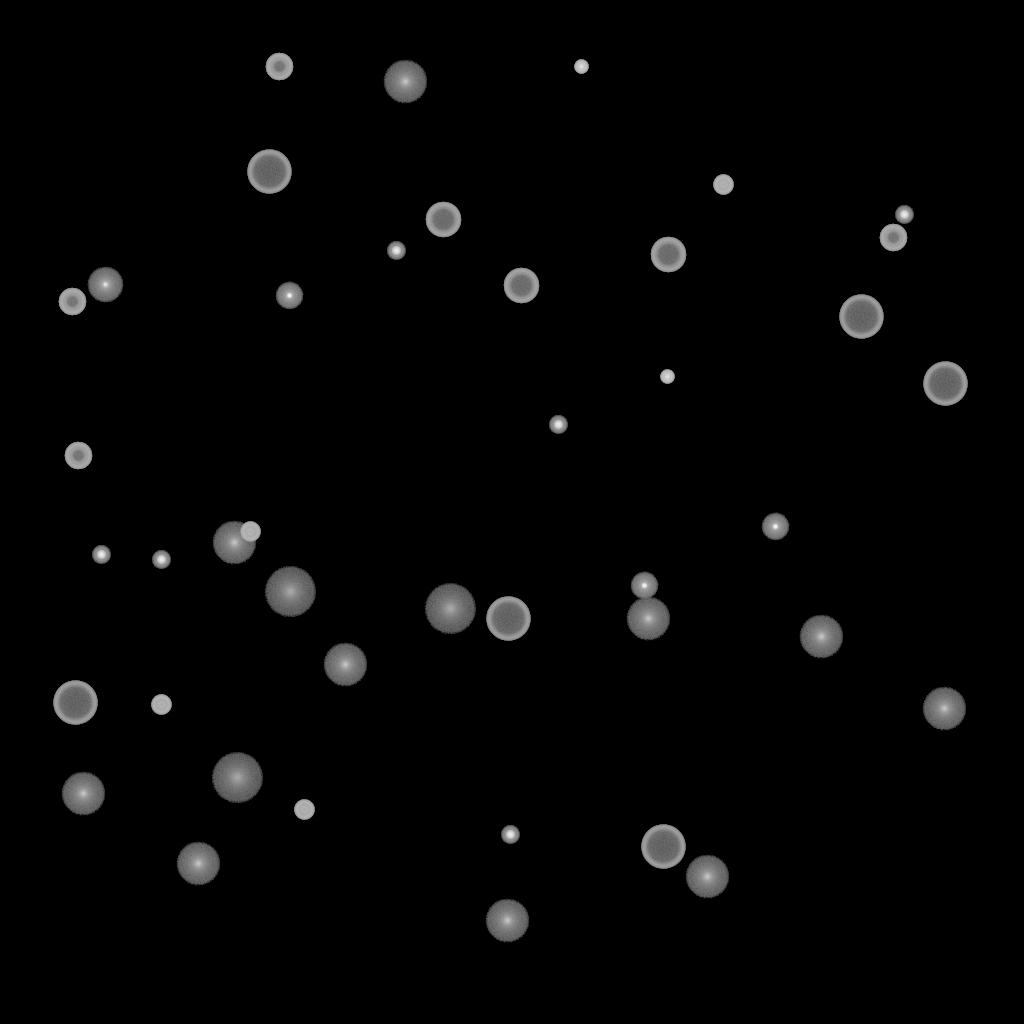depth:-10: (275, 282, 303, 310), (630, 572, 658, 600), (761, 513, 789, 541)
depth:-20: (895, 206, 913, 224), (152, 551, 170, 569), (501, 826, 519, 844), (92, 546, 110, 564), (549, 416, 567, 434), (387, 242, 405, 260)
depth:-30: (660, 370, 674, 384), (574, 60, 588, 74)
depth:-40: (294, 800, 314, 820), (240, 522, 260, 542), (151, 695, 171, 715), (713, 175, 733, 195)
depth:-50: (879, 224, 907, 252), (265, 53, 293, 81), (64, 442, 92, 470), (58, 288, 86, 316)
depth:-60: (425, 202, 461, 238), (503, 268, 539, 304), (650, 237, 686, 273)
depth:-70: (53, 681, 97, 725), (247, 150, 291, 194), (641, 825, 685, 869), (923, 362, 967, 406), (486, 597, 530, 641), (839, 295, 883, 339)
depth:0: (87, 267, 123, 303)
depth:10: (922, 687, 966, 731), (176, 842, 220, 886), (61, 772, 105, 816), (485, 899, 529, 943), (383, 60, 427, 104), (323, 643, 367, 687), (685, 855, 729, 899), (799, 615, 843, 659), (212, 521, 256, 565), (626, 597, 670, 641)
depth:20: (211, 753, 263, 803), (424, 584, 476, 634), (264, 567, 316, 617)
